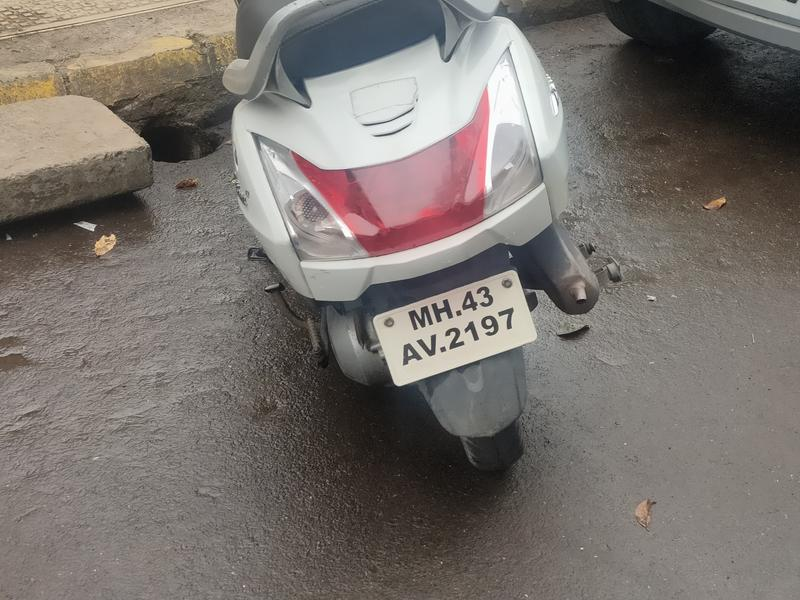license_plate: (359, 264, 540, 380)
